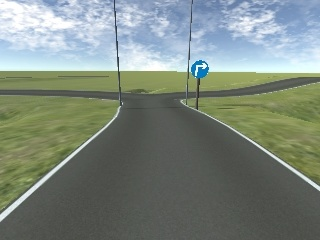turn_right_sign: (188, 58, 209, 79)
